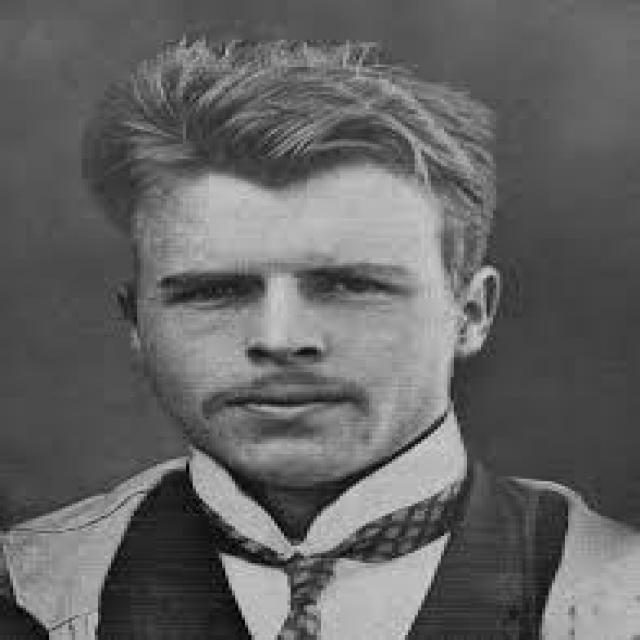person: (6, 37, 636, 630)
